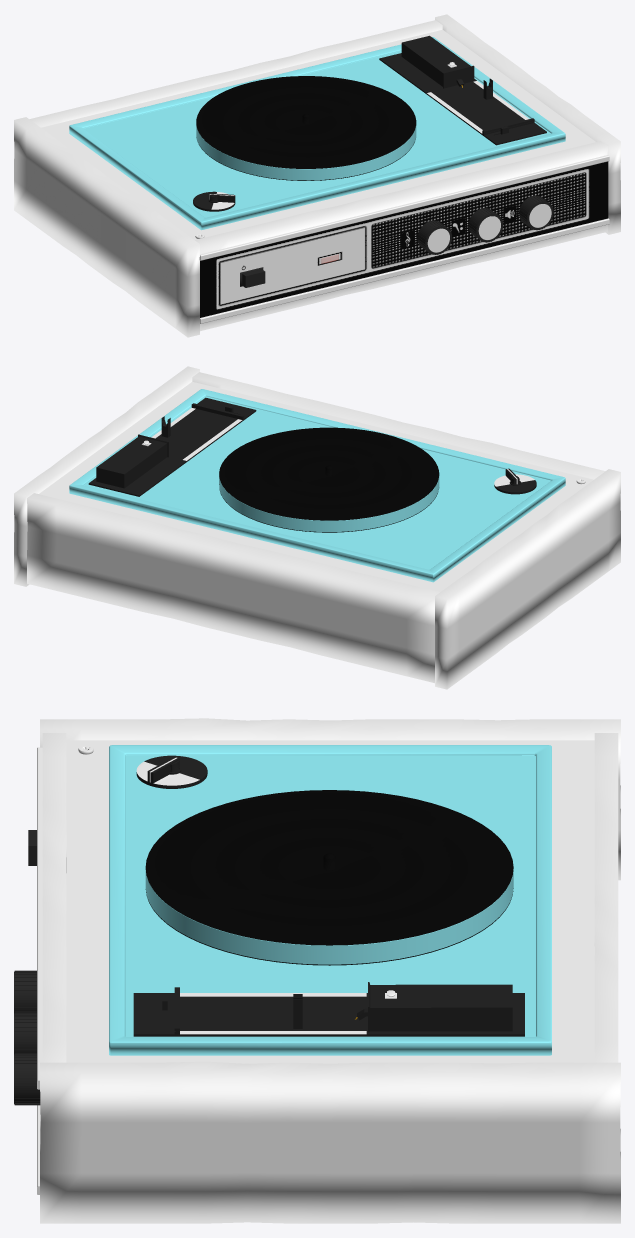
The model's file is empty-vinyl.glb.
3 views of the same model, one above another, from view 1: azimuth 30°, elevation 25°; view 2: azimuth 150°, elevation 25°; view 3: azimuth 270°, elevation 25° (orthographic). The views are drawn at different scales.
Visible parts, largest first — view 1: Cylinder; view 2: Cylinder; view 3: Cylinder.
Part boxes in pixels (<box>): Cylinder: <box>14,14,620,337</box>; Cylinder: <box>14,366,620,689</box>; Cylinder: <box>14,718,620,1223</box>.
Size of the model in its own units: 0.5298 by 0.1283 by 0.3847.
Materials: 18 (5 with a texture image).
